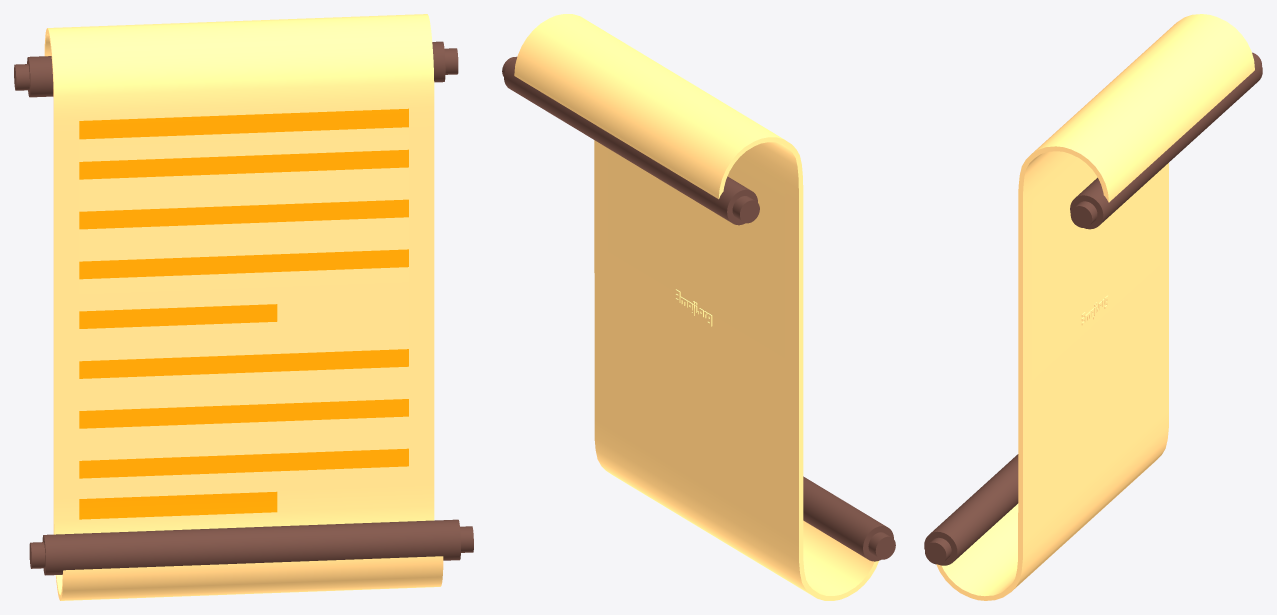
The model's file is scroll.gltf.
3 renders of one model, left to right at view 1: azimuth 30°, elevation 25°; view 2: azimuth 150°, elevation 25°; view 3: azimuth 270°, elevation 25°, orthographic. The views are drawn at different scales.
Visible parts, largest first — view 1: scroll; view 2: scroll; view 3: scroll.
Boxes of the visible parts, box(x1,y1,x2,y2) form: scroll: box(14, 14, 473, 600); scroll: box(502, 14, 895, 600); scroll: box(924, 14, 1262, 600).
Size of the model in its own units: 1.92 by 2.25 by 1.47.
1 material, 1 textured.
